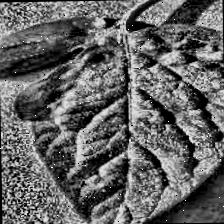spider mites: (0, 19, 224, 224)
